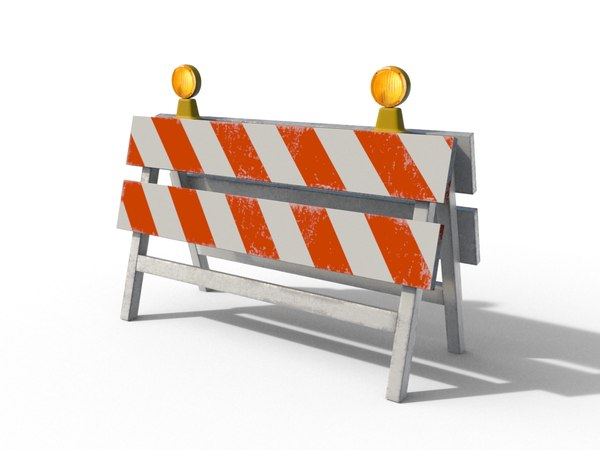Barrier: (86, 55, 521, 406)
